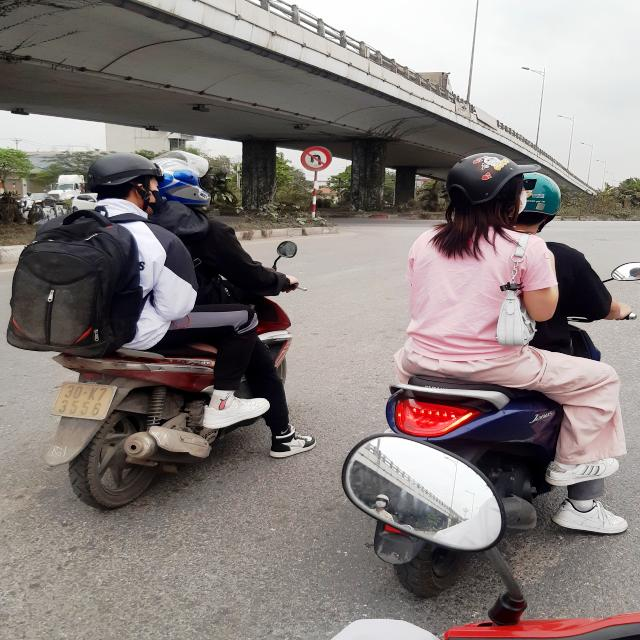license_plate: (47, 380, 123, 424)
